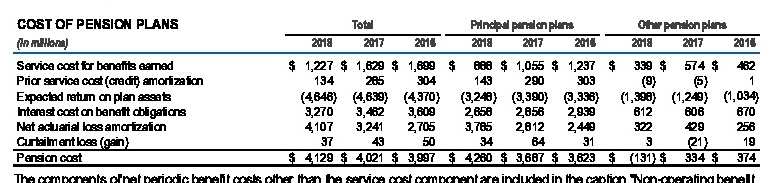table: (0, 0, 777, 183)
